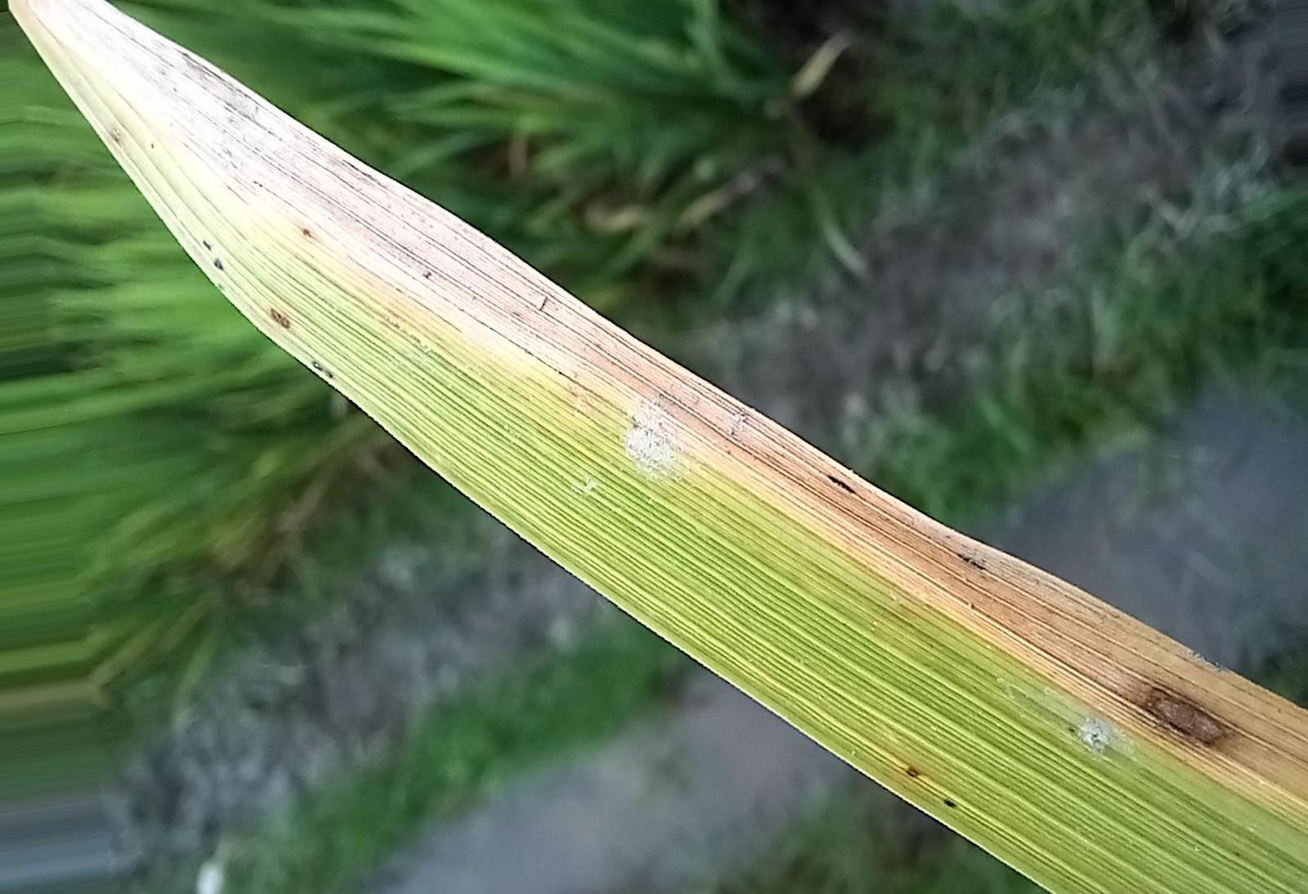LEAF: (11, 0, 1307, 893)
LEAF BLAST: (1142, 687, 1229, 744), (271, 309, 289, 328), (906, 767, 921, 777), (943, 799, 959, 808)
